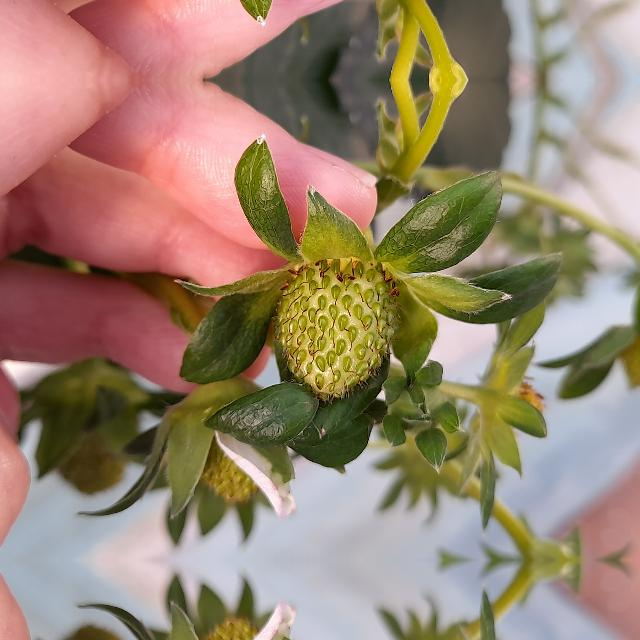Health_25: (270, 258, 402, 404)
